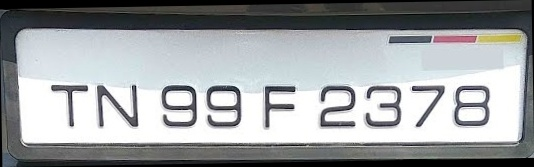character: (93, 81, 140, 129), (48, 81, 88, 127), (318, 83, 358, 129), (363, 83, 402, 127), (159, 82, 197, 127), (205, 83, 243, 128), (410, 82, 445, 128), (453, 83, 490, 126), (262, 82, 295, 127)
